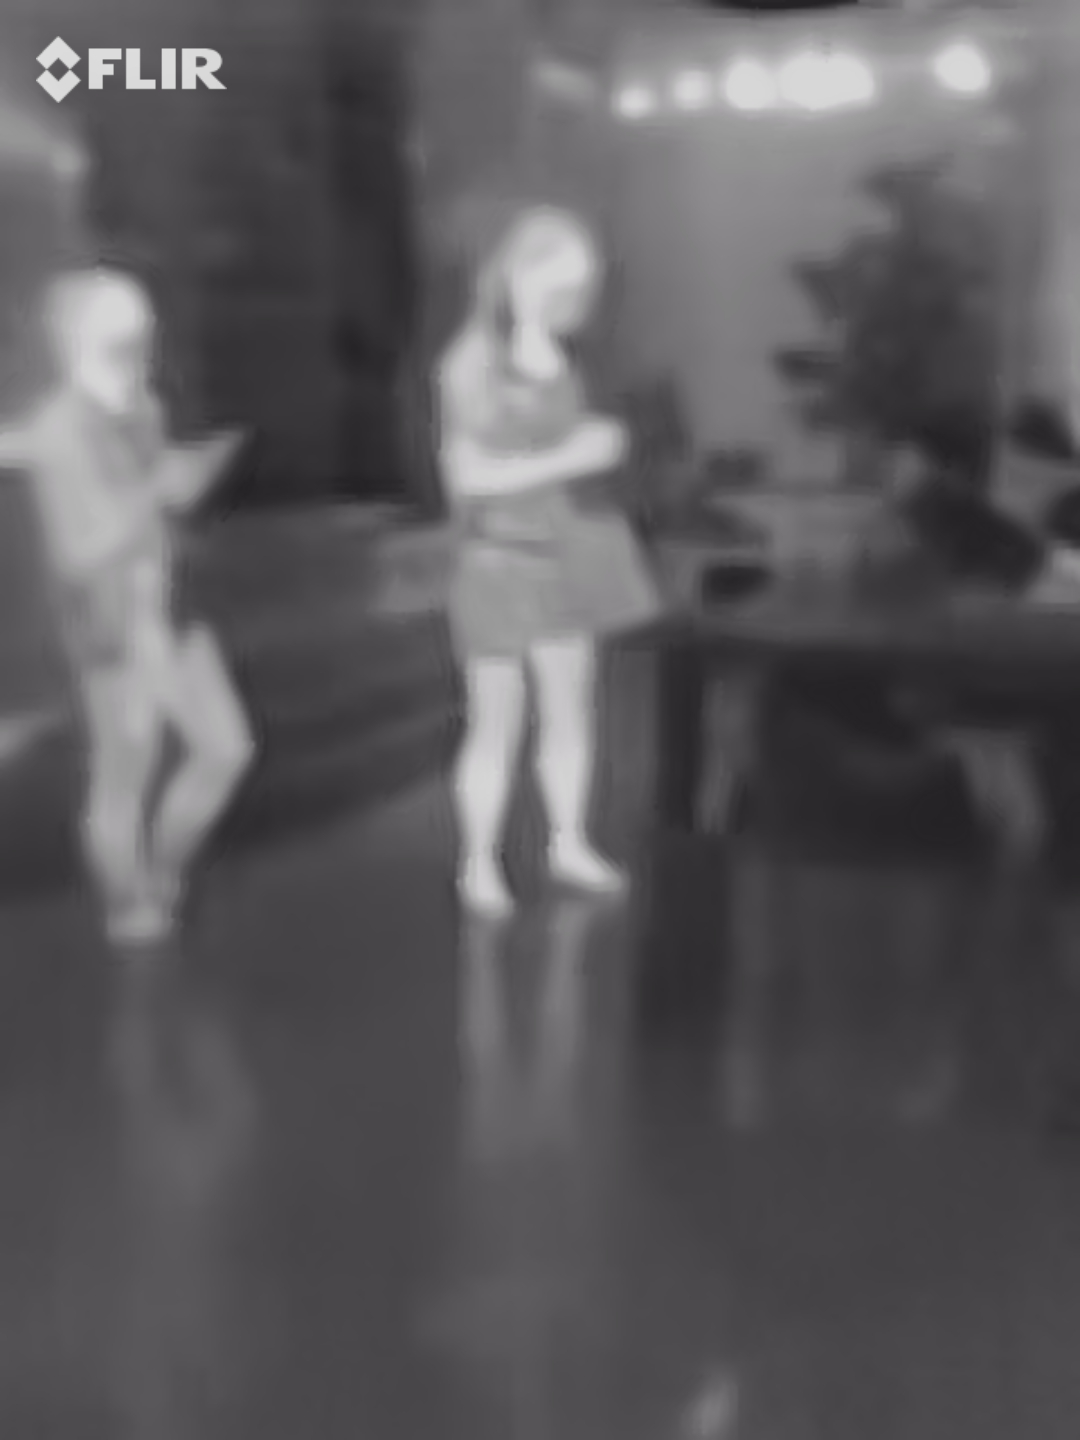head: (486, 206, 603, 345)
